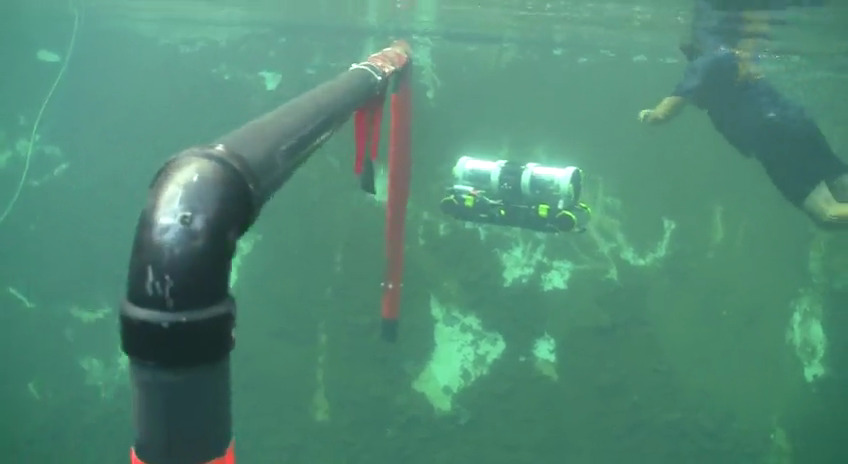gate: (122, 34, 424, 464)
